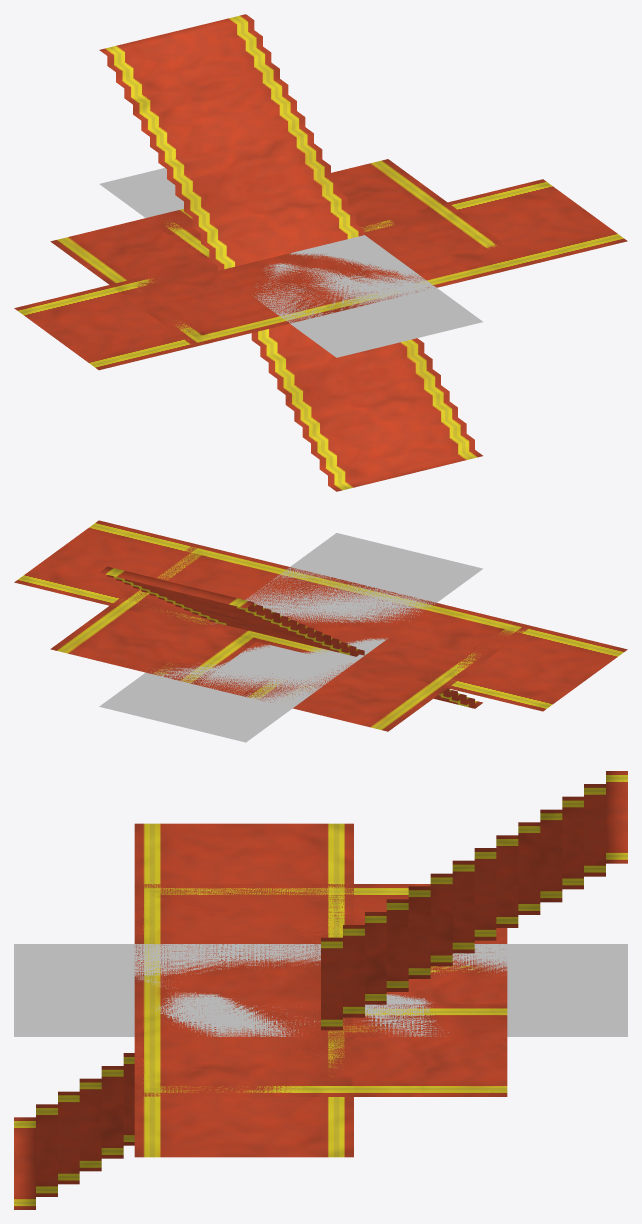
File: Platform.fbx
3 renders of one model, top to bottom at view 1: azimuth 30°, elevation 25°; view 2: azimuth 150°, elevation 25°; view 3: azimuth 270°, elevation 25°, orthographic. The views are drawn at different scales.
Visible parts, largest first — view 1: StairPlatform, LeftPlatform, BothPlatform, TransitionPlatform, RightPlatform; view 2: TransitionPlatform, BothPlatform, RightPlatform, LeftPlatform, StairPlatform; view 3: BothPlatform, StairPlatform, RightPlatform, TransitionPlatform, LeftPlatform.
Boxes of the visible parts, x1=… form: StairPlatform: x1=99, y1=14, x2=482, y2=491; LeftPlatform: x1=50, y1=209, x2=430, y2=346; BothPlatform: x1=14, y1=179, x2=627, y2=370; TransitionPlatform: x1=99, y1=168, x2=482, y2=357; RightPlatform: x1=110, y1=159, x2=501, y2=339; TransitionPlatform: x1=99, y1=533, x2=482, y2=742; BothPlatform: x1=14, y1=520, x2=627, y2=711; RightPlatform: x1=50, y1=544, x2=526, y2=687; LeftPlatform: x1=182, y1=557, x2=531, y2=731; StairPlatform: x1=99, y1=566, x2=482, y2=708; BothPlatform: x1=134, y1=823, x2=507, y2=1157; StairPlatform: x1=14, y1=771, x2=627, y2=1209; RightPlatform: x1=134, y1=884, x2=507, y2=1096; TransitionPlatform: x1=14, y1=944, x2=627, y2=1036; LeftPlatform: x1=134, y1=884, x2=507, y2=1071.
Size of the model in its own units: 18 by 8.71 by 14.
